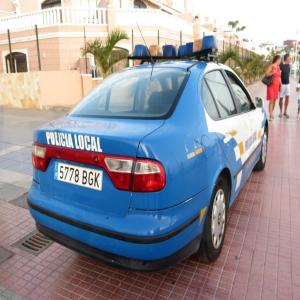Vehicle-registration-plate: (55, 163, 103, 192)
